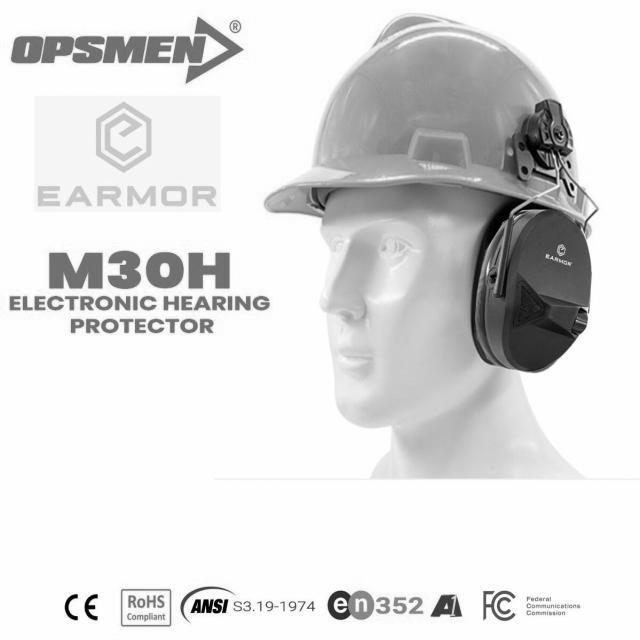safety_helmet: (265, 14, 600, 374)
